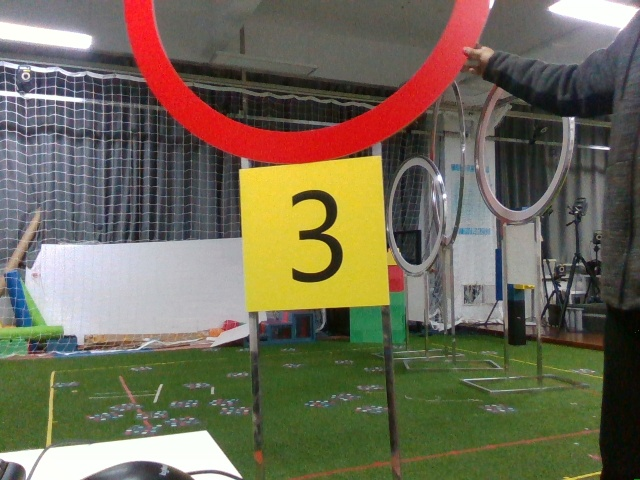target: (242, 173, 385, 304)
